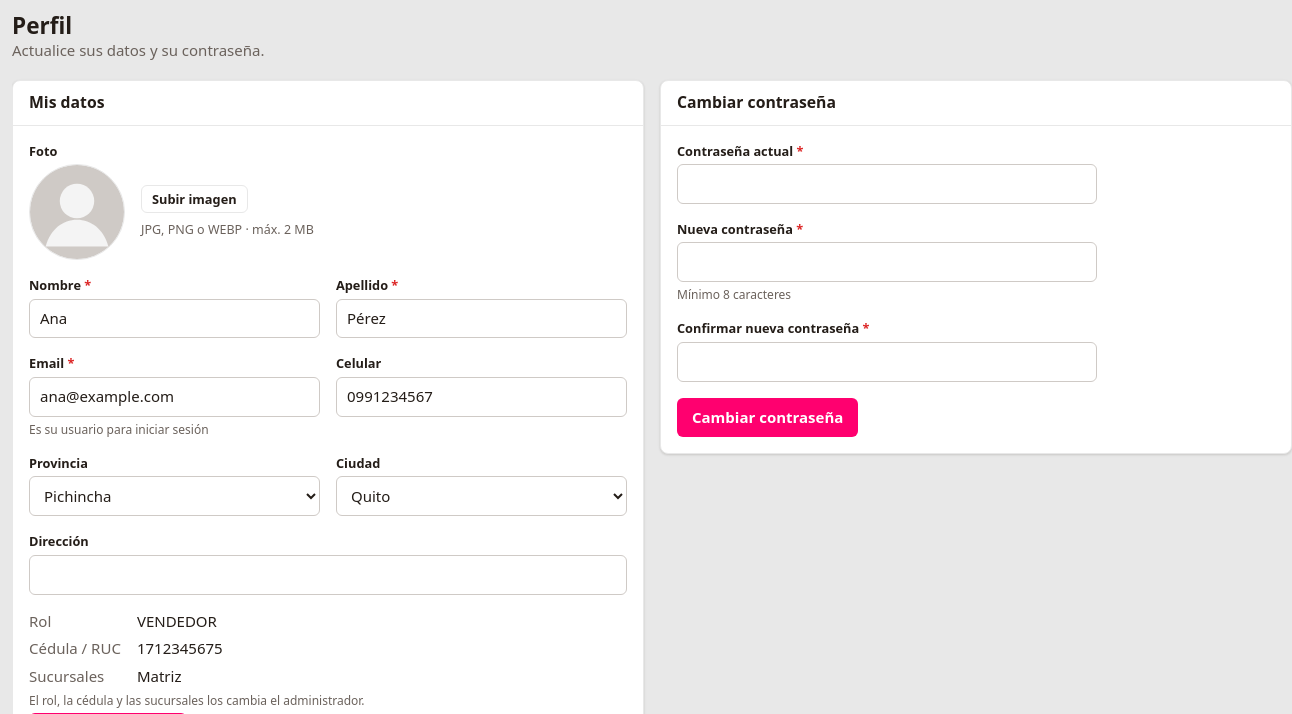
ProfilePage › requires the confirmation to match
Type "Secret1234" into the password field labelled "Contraseña actual *". click: (887, 184)
box: [677, 164, 1097, 204]
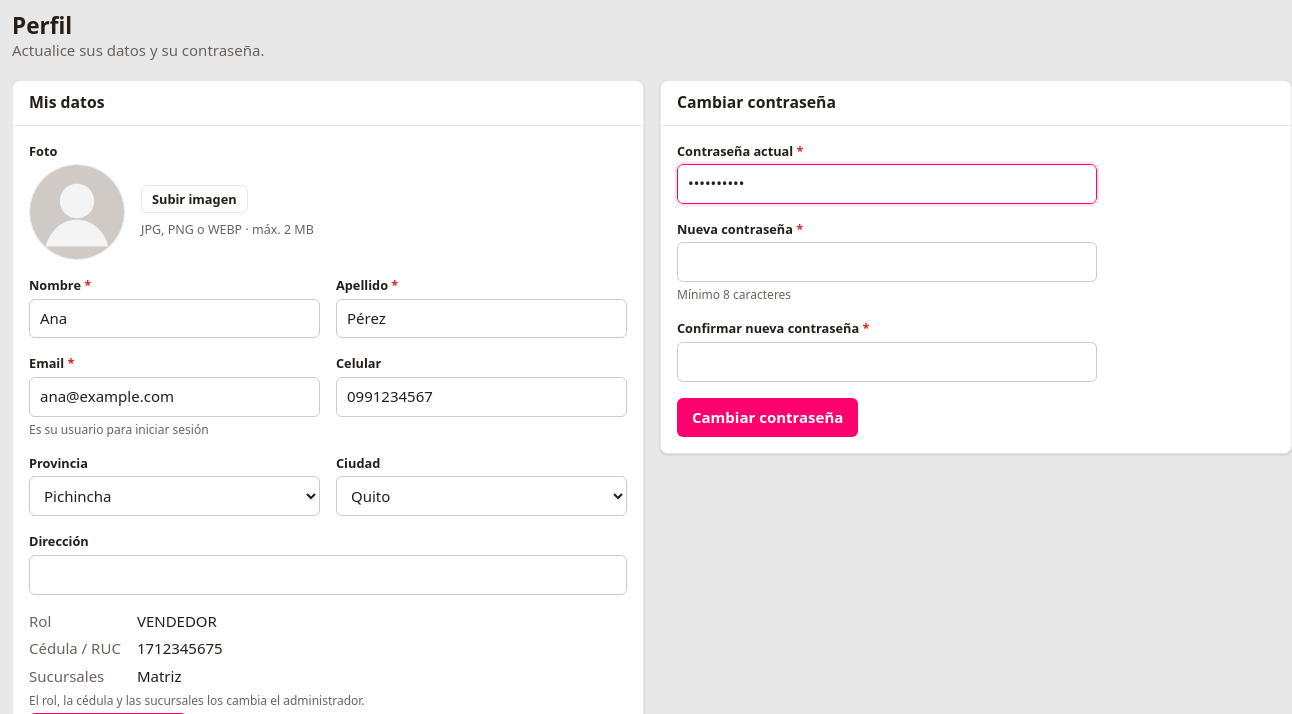
Type "NuevaClave99" into the password field labelled "Nueva contraseña *". click: (887, 262)
box: [677, 242, 1097, 282]
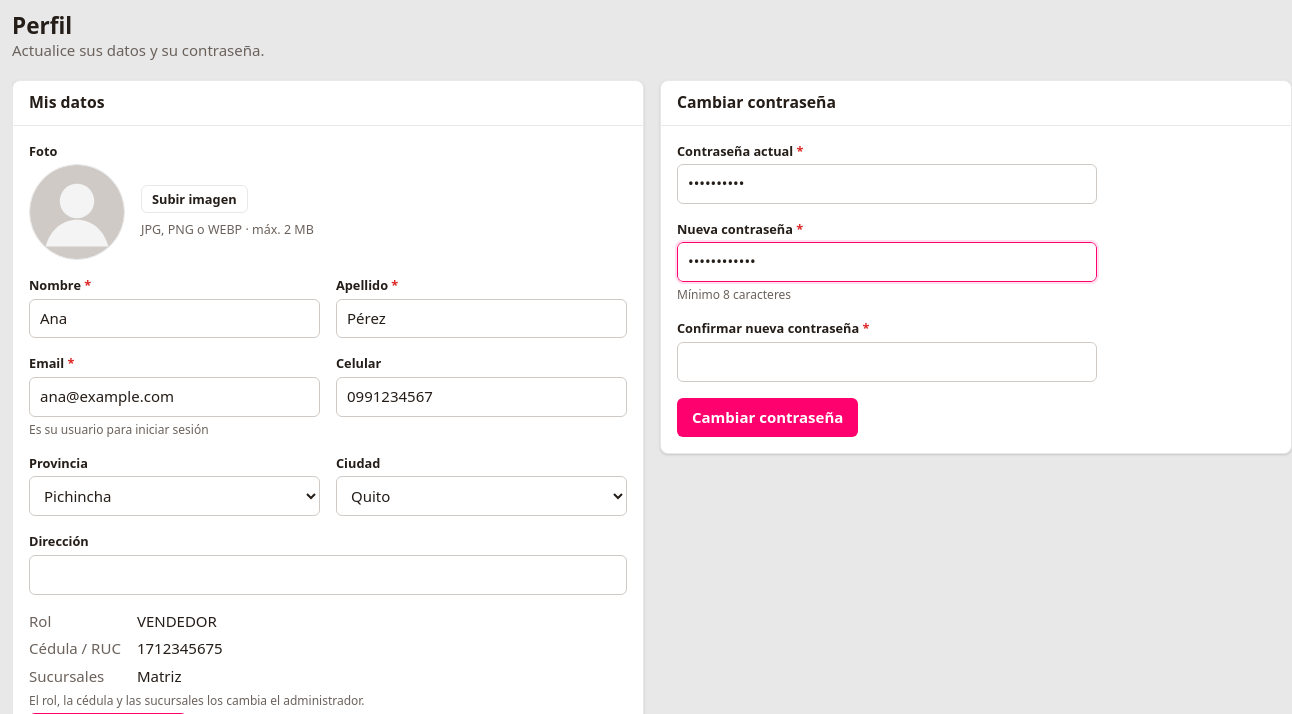
Type "OtraClave99" into the password field labelled "Confirmar nueva contraseña *". click: (887, 362)
box: [677, 342, 1097, 382]
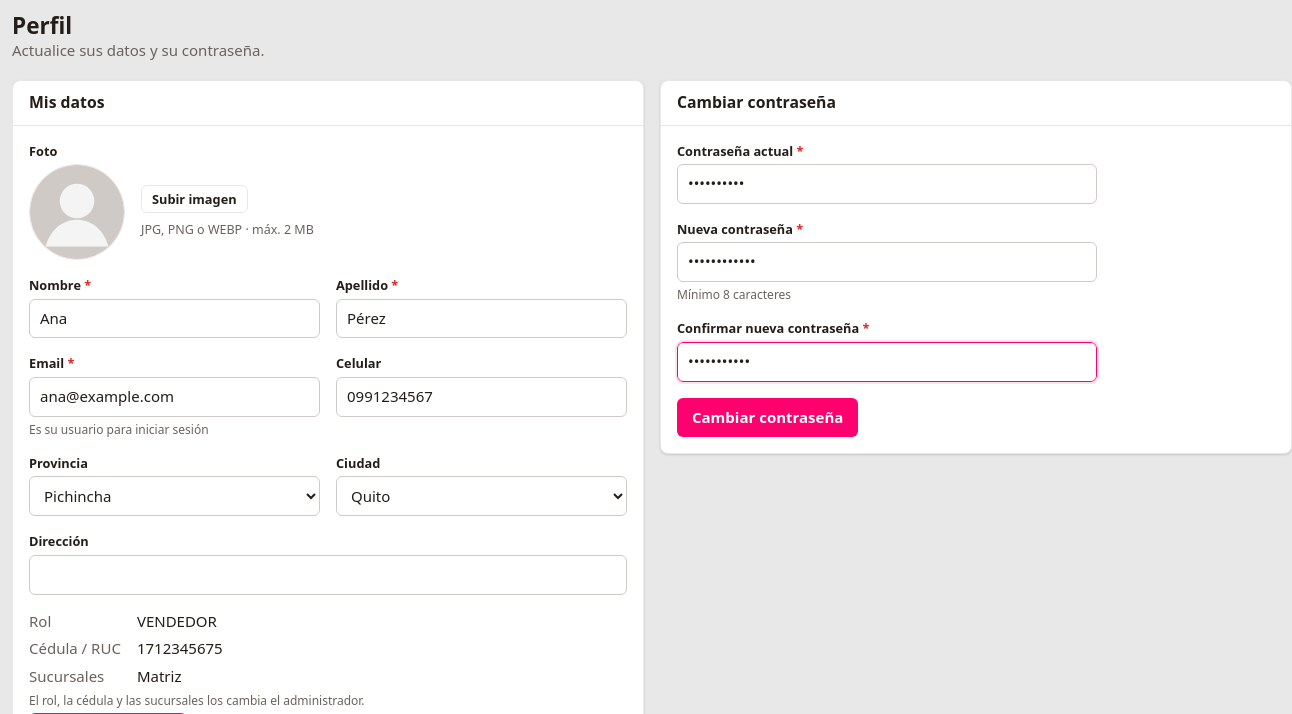
Click the button "Cambiar contraseña". click: (768, 418)
box: [677, 398, 858, 438]
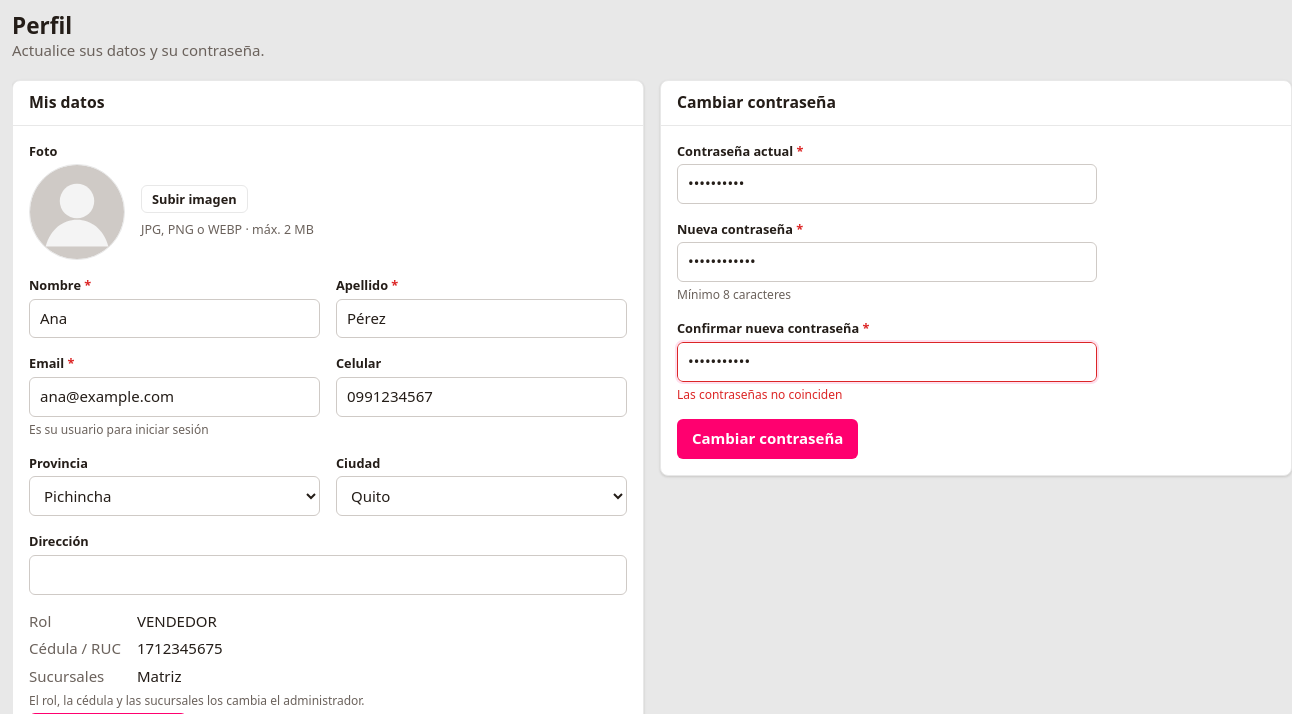
Check: the text "Las contraseñas no coinciden" is shown, box [677, 386, 842, 403]
